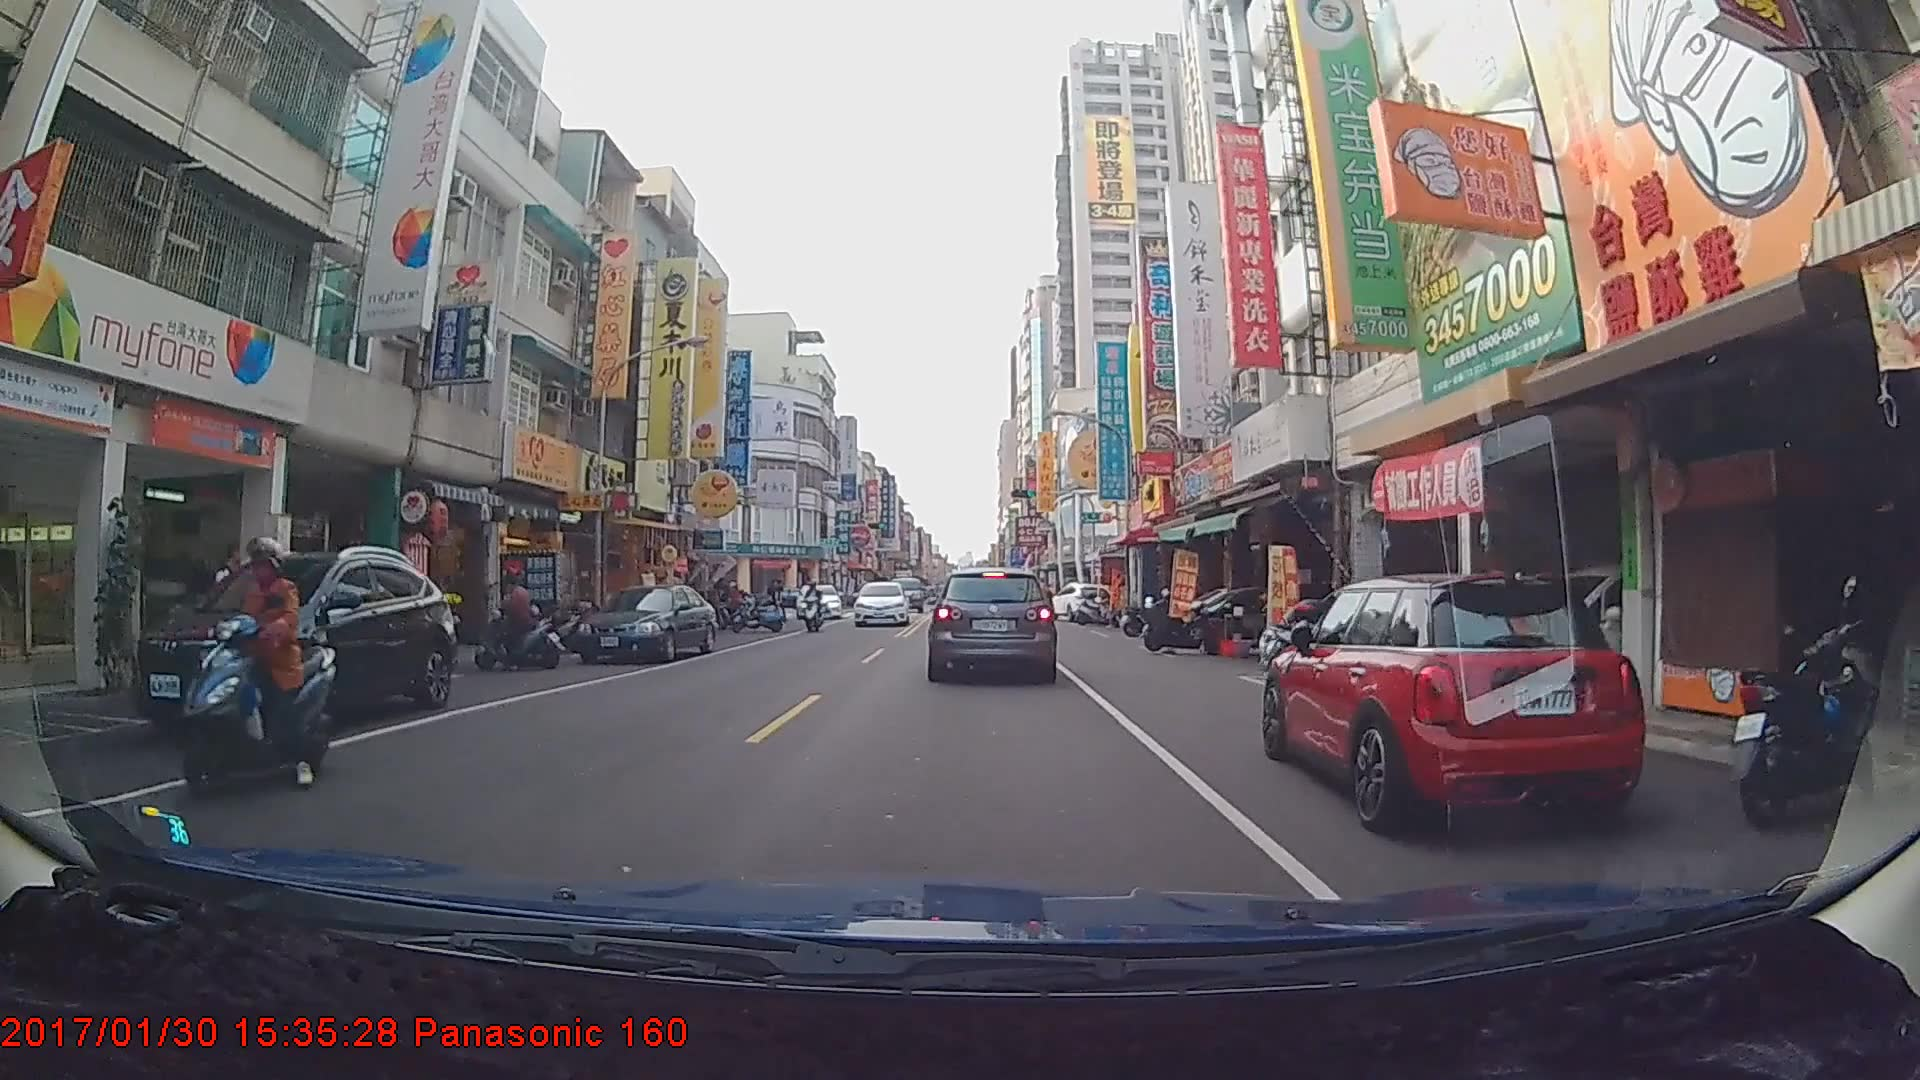rider: (184, 533, 338, 801), (470, 568, 575, 676), (799, 583, 827, 636)
vehicle: (1272, 564, 1638, 827), (125, 548, 457, 748), (929, 563, 1055, 680), (570, 588, 717, 665), (1047, 581, 1111, 624), (851, 581, 910, 625), (795, 582, 842, 619)
